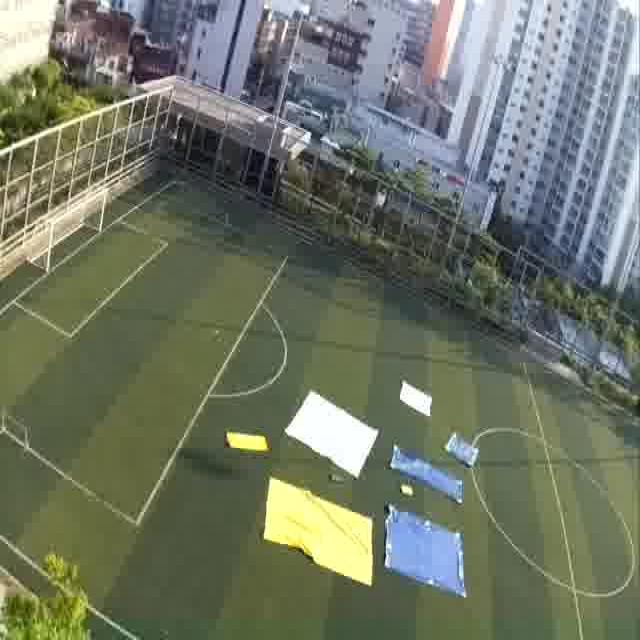danger: (381, 512, 475, 608), (387, 439, 437, 484), (444, 426, 482, 466)
safety: (287, 386, 380, 478), (394, 372, 437, 423)
warning: (259, 477, 376, 592), (223, 422, 274, 466)
